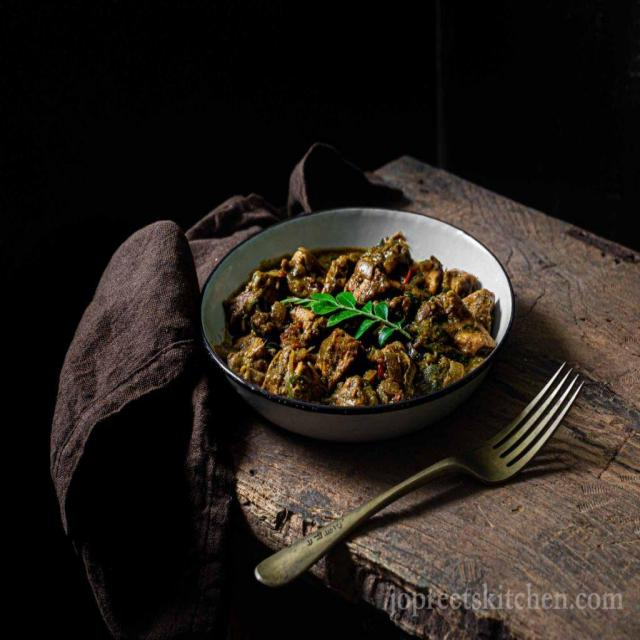chicken: (221, 236, 505, 400)
